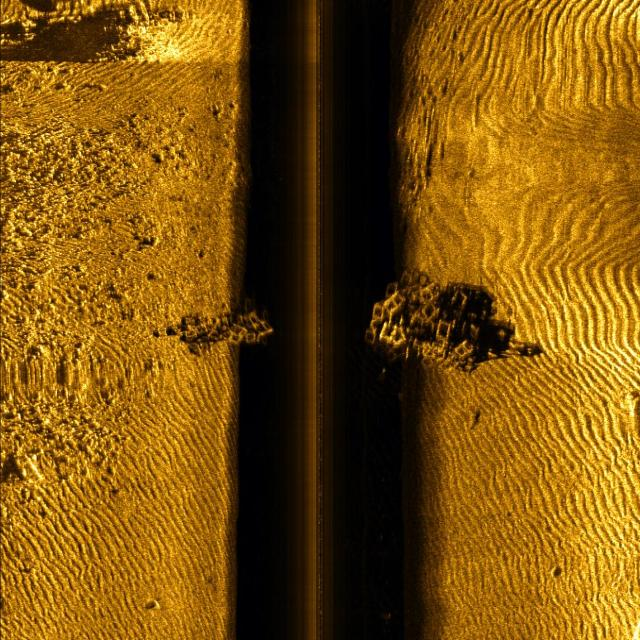artificial reef: (347, 274, 486, 380), (186, 294, 280, 357)
